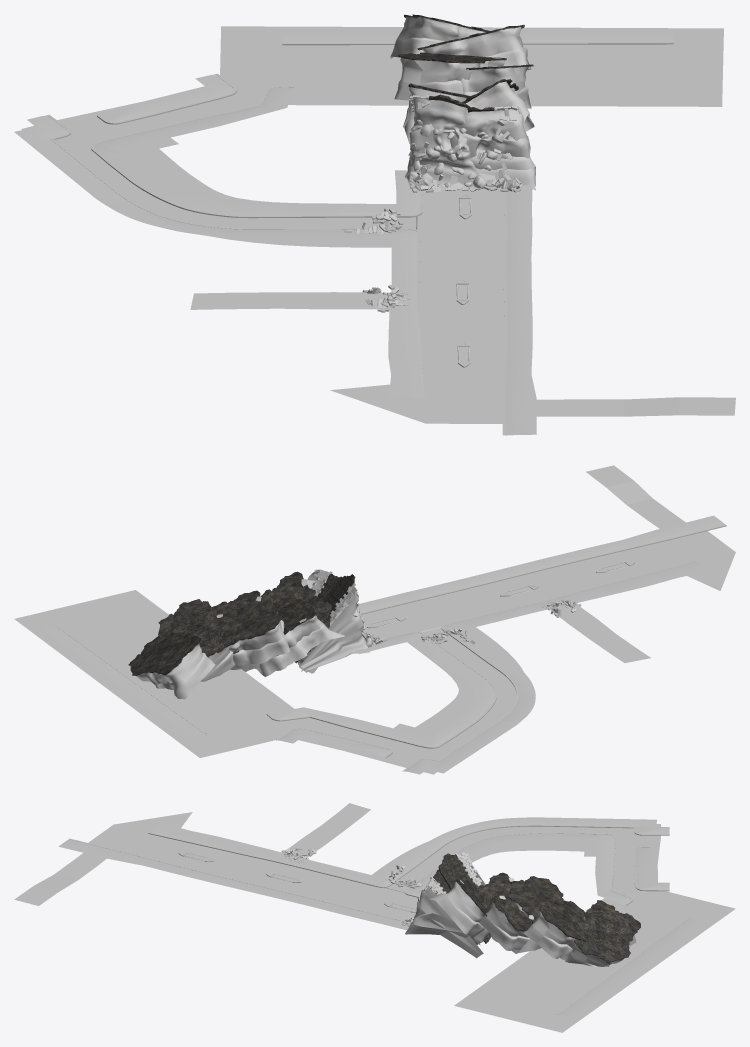
File: street4.fbx
The picture shows the model from 3 angles, top to bottom: view 1: azimuth 30°, elevation 25°; view 2: azimuth 150°, elevation 25°; view 3: azimuth 270°, elevation 25°; orthographic projection. The views are drawn at different scales.
Parts seen in each view (by area): view 1: LODGroup_1_MainMesh_1_SubMesh_4, LODGroup_1_MainMesh_1_SubMesh_1, LODGroup_1_MainMesh_1_SubMesh_7, LODGroup_1_MainMesh_1_SubMesh_6, LODGroup_1_MainMesh_1_SubMesh_2, LODGroup_1_MainMesh_1_SubMesh_3, LODGroup_1_MainMesh_1_SubMesh_5; view 2: LODGroup_1_MainMesh_1_SubMesh_1, LODGroup_1_MainMesh_1_SubMesh_4, LODGroup_1_MainMesh_1_SubMesh_2, LODGroup_1_MainMesh_1_SubMesh_7, LODGroup_1_MainMesh_1_SubMesh_6, LODGroup_1_MainMesh_1_SubMesh_3; view 3: LODGroup_1_MainMesh_1_SubMesh_1, LODGroup_1_MainMesh_1_SubMesh_4, LODGroup_1_MainMesh_1_SubMesh_2, LODGroup_1_MainMesh_1_SubMesh_7, LODGroup_1_MainMesh_1_SubMesh_6, LODGroup_1_MainMesh_1_SubMesh_3.
Part boxes in pixels (left/top/right/bottom): LODGroup_1_MainMesh_1_SubMesh_4: left=220, top=26, right=723, bottom=423; LODGroup_1_MainMesh_1_SubMesh_1: left=14, top=31, right=735, bottom=435; LODGroup_1_MainMesh_1_SubMesh_7: left=390, top=17, right=535, bottom=190; LODGroup_1_MainMesh_1_SubMesh_6: left=21, top=86, right=469, bottom=364; LODGroup_1_MainMesh_1_SubMesh_2: left=398, top=14, right=533, bottom=191; LODGroup_1_MainMesh_1_SubMesh_3: left=420, top=188, right=504, bottom=423; LODGroup_1_MainMesh_1_SubMesh_5: left=407, top=124, right=508, bottom=188; LODGroup_1_MainMesh_1_SubMesh_1: left=40, top=465, right=726, bottom=774; LODGroup_1_MainMesh_1_SubMesh_4: left=14, top=531, right=735, bottom=757; LODGroup_1_MainMesh_1_SubMesh_2: left=128, top=571, right=369, bottom=675; LODGroup_1_MainMesh_1_SubMesh_7: left=136, top=572, right=370, bottom=699; LODGroup_1_MainMesh_1_SubMesh_6: left=269, top=562, right=631, bottom=774; LODGroup_1_MainMesh_1_SubMesh_3: left=361, top=531, right=708, bottom=638; LODGroup_1_MainMesh_1_SubMesh_1: left=14, top=803, right=704, bottom=1017; LODGroup_1_MainMesh_1_SubMesh_4: left=89, top=812, right=735, bottom=1032; LODGroup_1_MainMesh_1_SubMesh_2: left=433, top=853, right=640, bottom=964; LODGroup_1_MainMesh_1_SubMesh_7: left=405, top=866, right=639, bottom=966; LODGroup_1_MainMesh_1_SubMesh_6: left=181, top=824, right=660, bottom=911; LODGroup_1_MainMesh_1_SubMesh_3: left=88, top=838, right=416, bottom=920.
Bounding box in the file's own units: 9977 × 1589 × 13311.
